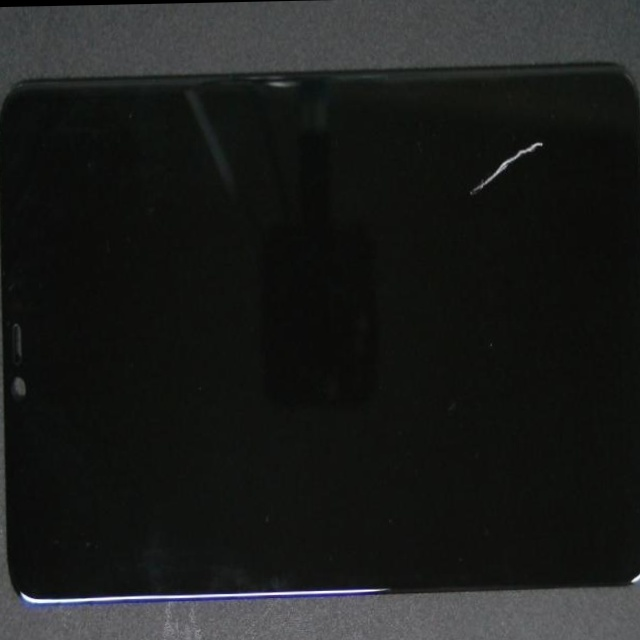scratch: (218, 60, 640, 288)
